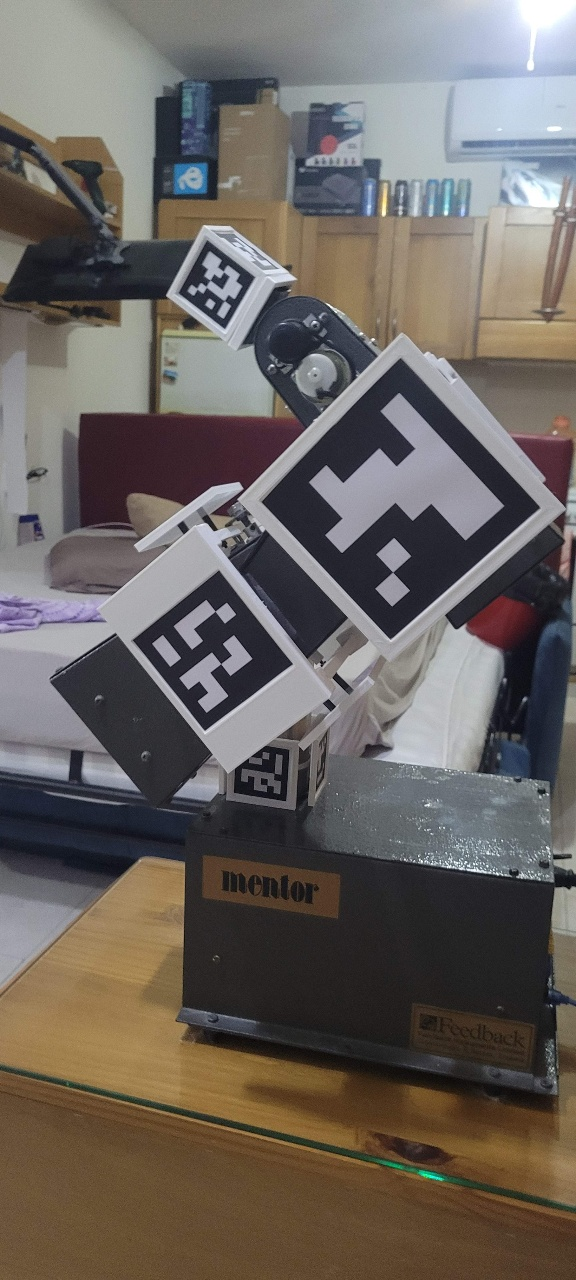Robot: (48, 224, 574, 817)
